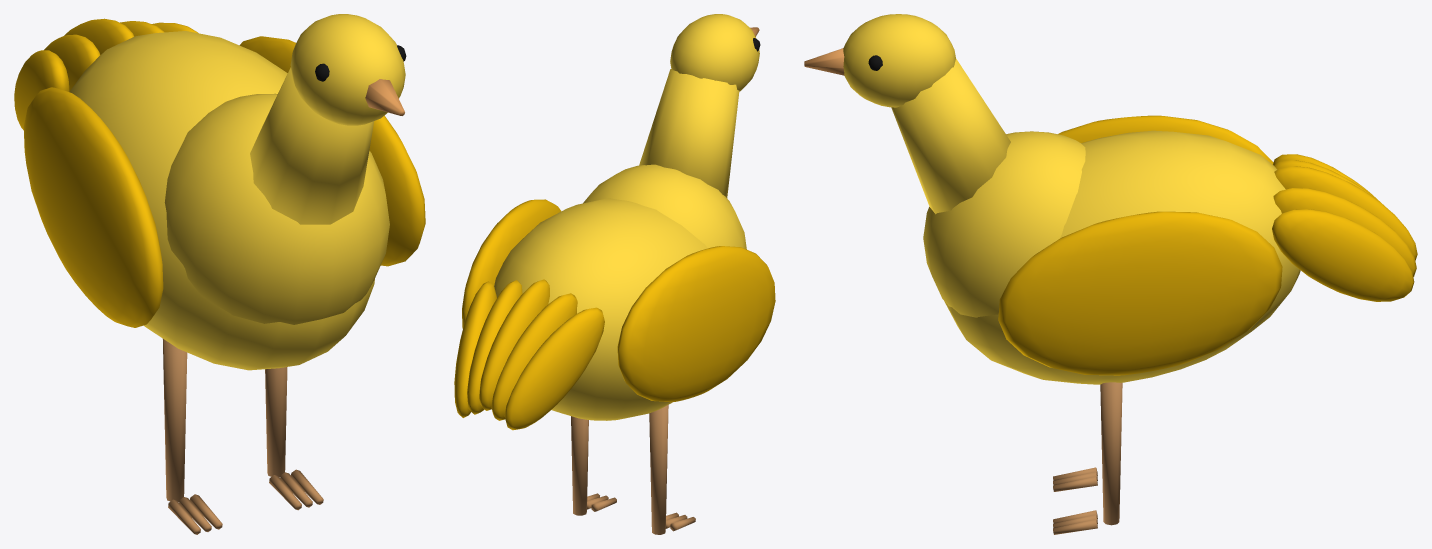
The model's file is canary.glb.
3 renders of one model, left to right at view 1: azimuth 30°, elevation 25°; view 2: azimuth 150°, elevation 25°; view 3: azimuth 270°, elevation 25°, orthographic. The views are drawn at different scales.
Visible parts, largest first — view 1: canary; view 2: canary; view 3: canary.
Boxes of the visible parts, x1,y1,x2,y2 form: canary: (14, 14, 425, 534); canary: (454, 14, 775, 534); canary: (804, 14, 1417, 534).
Bounding box in the file's own units: 0.202 × 0.374 × 0.4236.
